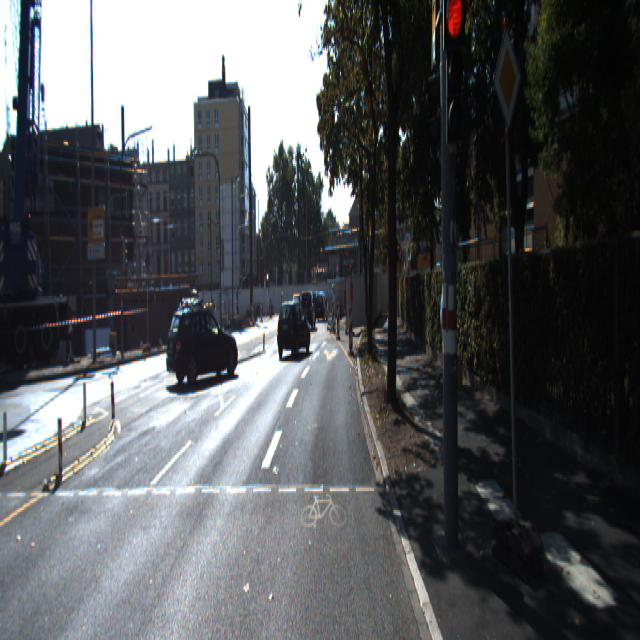Car: (162, 298, 239, 382), (275, 294, 311, 355), (170, 292, 205, 350), (290, 292, 304, 324)
